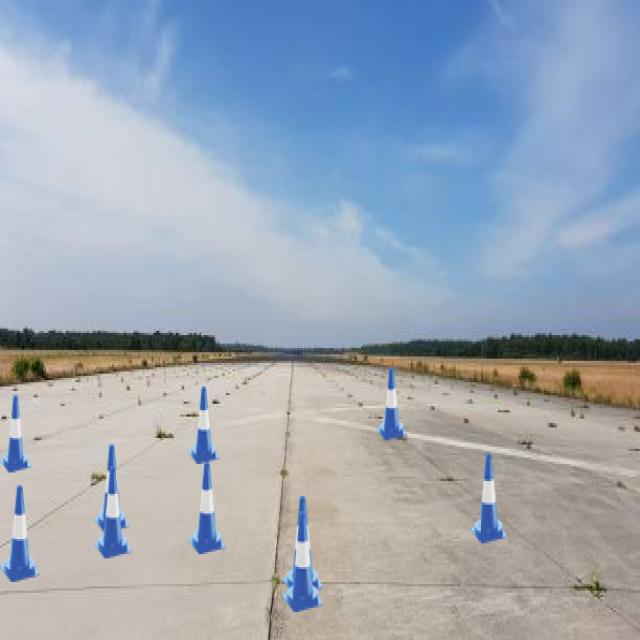blue_cone: (282, 511, 323, 612), (282, 496, 323, 595), (0, 485, 40, 582), (94, 466, 132, 558), (188, 462, 226, 554), (471, 454, 507, 544), (94, 444, 130, 532), (188, 386, 220, 464), (0, 395, 31, 472), (376, 368, 407, 440)
